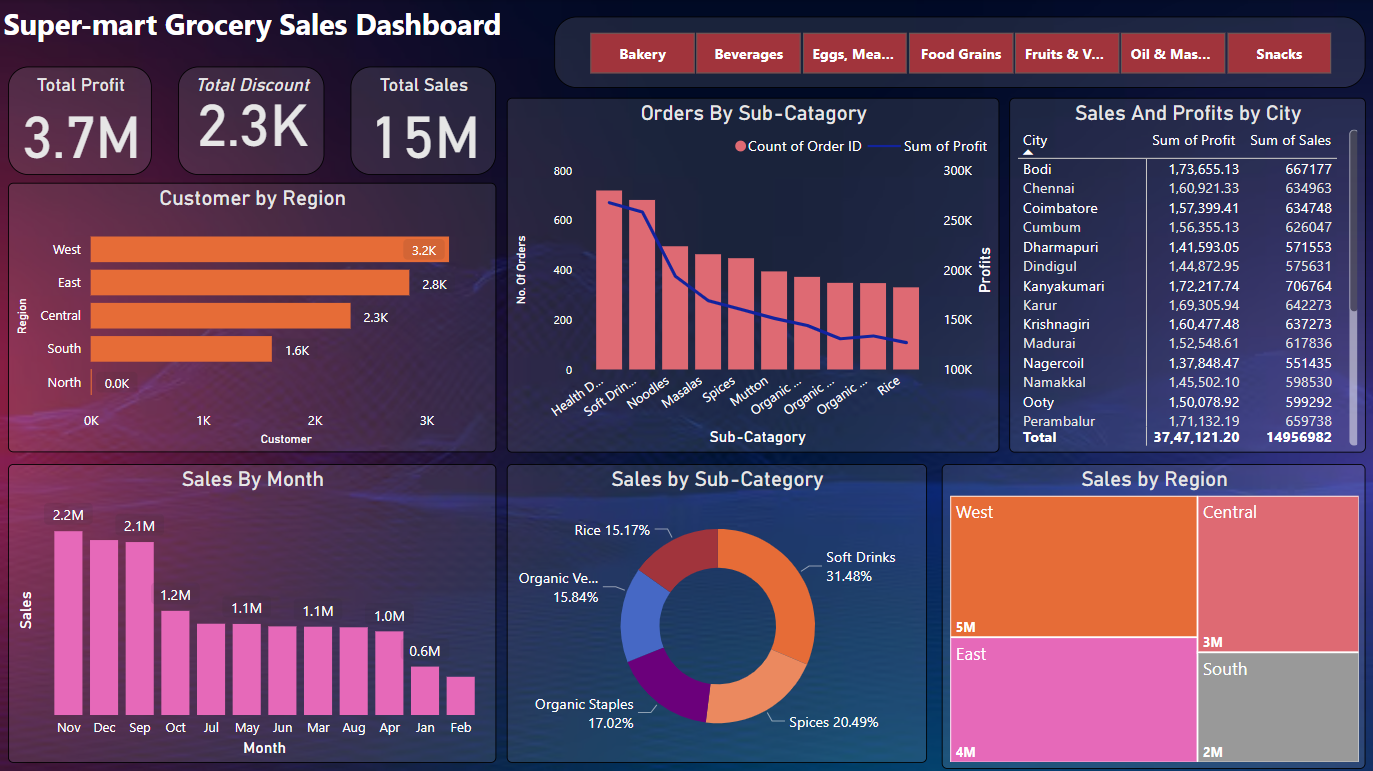

The page's visual inventory and layout, read from the dashboard file:
{"tool":"powerbi","page":{"name":"Page 1","canvas":[1280,720],"ordinal":0},"visuals":[{"type":"columnChart","title":"Sales By Month","fields":{"Y":["Sum(Supermart Grocery Sales - Retail Analytics Dataset.Sales)"],"Category":["Supermart Grocery Sales - Retail Analytics Dataset.Month"]},"box":[8.9,432,453.2,278],"z":0},{"type":"donutChart","title":"Sales by Sub-Category","fields":{"Category":["Supermart Grocery Sales - Retail Analytics Dataset.Sub Category"],"Y":["Sum(Supermart Grocery Sales - Retail Analytics Dataset.Sales)"]},"box":[472.5,432.5,390,277.5],"z":1000},{"type":"clusteredBarChart","title":"Customer by Region","fields":{"Category":["Supermart Grocery Sales - Retail Analytics Dataset.Region"],"Y":["CountNonNull(Supermart Grocery Sales - Retail Analytics Dataset.Customer Name)"]},"box":[8.9,170.8,453.2,250],"z":2000},{"type":"treemap","title":"Sales by Region","fields":{"Values":["Sum(Supermart Grocery Sales - Retail Analytics Dataset.Sales)"],"Group":["Supermart Grocery Sales - Retail Analytics Dataset.Region"]},"box":[876.6,431.9,393.6,283.3],"z":3000},{"type":"pivotTable","title":"Sales And Profits by City","fields":{"Rows":["Supermart Grocery Sales - Retail Analytics Dataset.City"],"Values":["Sum(Supermart Grocery Sales - Retail Analytics Dataset.Profit)","Sum(Supermart Grocery Sales - Retail Analytics Dataset.Sales)"]},"box":[939.3,91.7,330.9,329.8],"z":4000},{"type":"card","title":"Total Sales","fields":{"Values":["Sum(Supermart Grocery Sales - Retail Analytics Dataset.Sales)"]},"box":[327.1,62.5,135.1,100.5],"z":5000},{"type":"card","title":"Total Profit","fields":{"Values":["Sum(Supermart Grocery Sales - Retail Analytics Dataset.Profit)"]},"box":[8.9,62.5,134,100.5],"z":6000},{"type":"card","title":"Total Discount","fields":{"Values":["Sum(Supermart Grocery Sales - Retail Analytics Dataset.Discount)"]},"box":[167.4,62.5,136.2,100.5],"z":7000},{"type":"slicer","fields":{"Values":["Supermart Grocery Sales - Retail Analytics Dataset.Category"]},"box":[516.2,16.2,753.8,66.2],"z":8000},{"type":"lineClusteredColumnComboChart","title":"Orders By Sub-Catagory","fields":{"Category":["Supermart Grocery Sales - Retail Analytics Dataset.Sub Category"],"Y":["CountNonNull(Supermart Grocery Sales - Retail Analytics Dataset.Order ID)"],"Y2":["Sum(Supermart Grocery Sales - Retail Analytics Dataset.Profit)"]},"box":[472.6,91.7,457.5,329.8],"z":9000},{"type":"textbox","box":[0,0,507.5,50],"z":10000}]}

Visuals, with their boxes in screenshot pixels (x1, y1, x2, y2), scaled from the page's 1280x720 canvas onto the 1373x771 screenshot:
"Sales By Month" columnChart: select_region(10, 463, 496, 760)
"Sales by Sub-Category" donutChart: select_region(507, 463, 925, 760)
"Customer by Region" clusteredBarChart: select_region(10, 183, 496, 451)
"Sales by Region" treemap: select_region(940, 462, 1362, 766)
"Sales And Profits by City" pivotTable: select_region(1008, 98, 1362, 451)
"Total Sales" card: select_region(351, 67, 496, 175)
"Total Profit" card: select_region(10, 67, 153, 175)
"Total Discount" card: select_region(180, 67, 326, 175)
slicer - Supermart Grocery Sales - Retail Analytics Dataset.Category: select_region(554, 17, 1362, 88)
"Orders By Sub-Catagory" lineClusteredColumnComboChart: select_region(507, 98, 998, 451)
textbox: select_region(0, 0, 544, 54)
